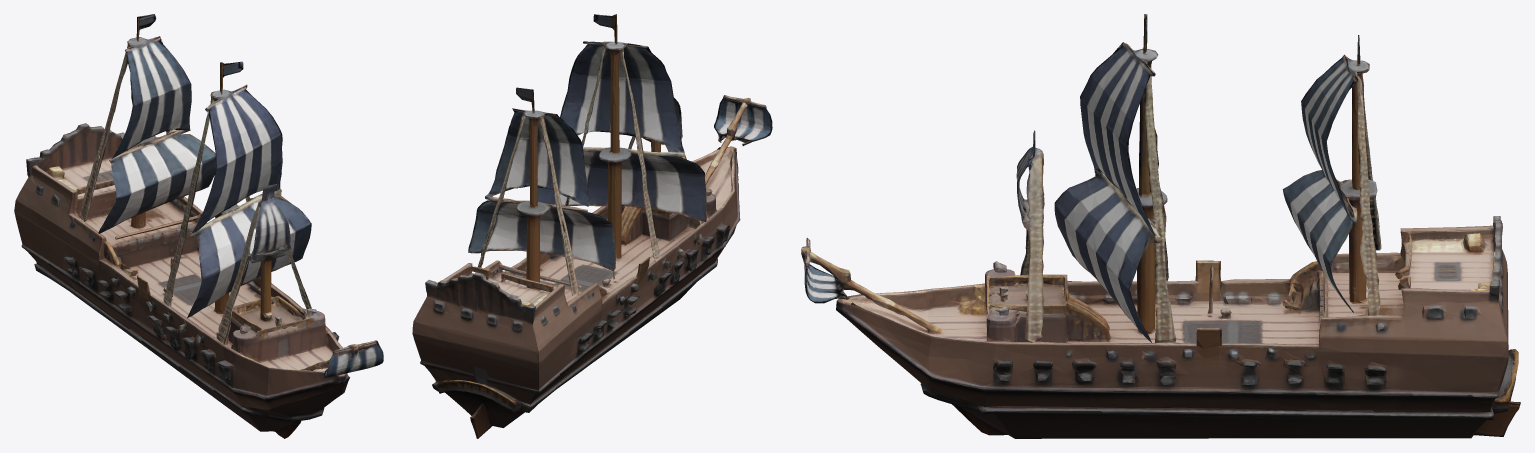
Rendered from PartObjaverseTiny_TwentyOne.glb.
3 renders of one model, left to right at view 1: azimuth 30°, elevation 25°; view 2: azimuth 150°, elevation 25°; view 3: azimuth 270°, elevation 25°, orthographic. The views are drawn at different scales.
Parts seen in each view (by area): view 1: world; view 2: world; view 3: world.
Boxes of the visible parts, left/top/right/bottom form: world: left=14, top=14, right=383, bottom=438; world: left=412, top=14, right=772, bottom=438; world: left=801, top=14, right=1520, bottom=438.
Size of the model in its own units: 0.3072 by 0.6467 by 0.9998.
1 material, 1 textured.
